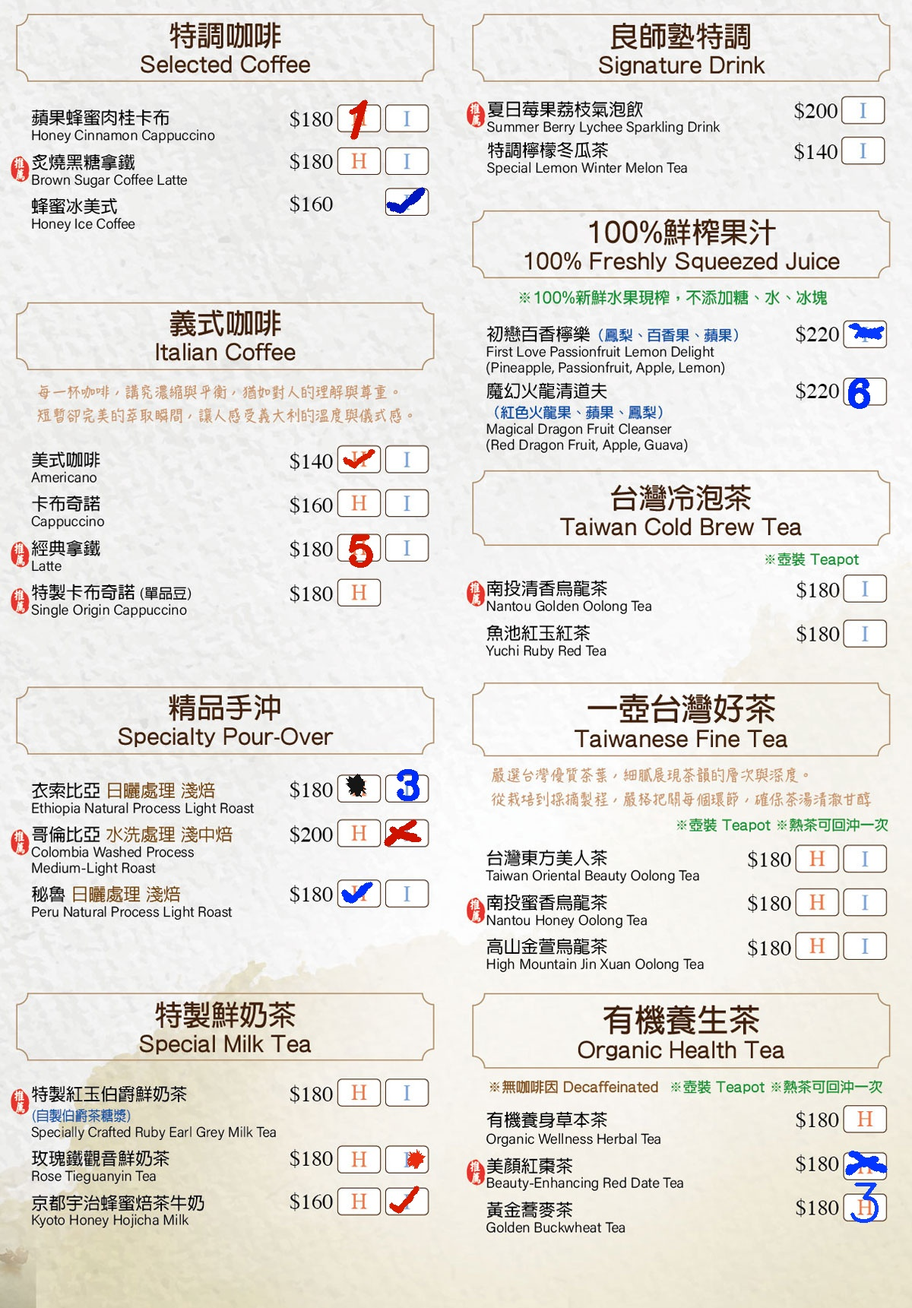marked_circle: (339, 776, 378, 800), (388, 1148, 426, 1171)
marked_number_1: (339, 106, 378, 129)
marked_number_3: (845, 1194, 884, 1218), (387, 775, 426, 799)
marked_number_5: (339, 535, 378, 559)
marked_number_6: (845, 378, 884, 402)
marked_tick: (338, 879, 377, 903), (387, 190, 426, 214), (387, 1189, 426, 1212), (340, 447, 378, 470)
marked_x: (846, 1153, 885, 1177), (845, 321, 884, 345), (385, 822, 424, 845)
